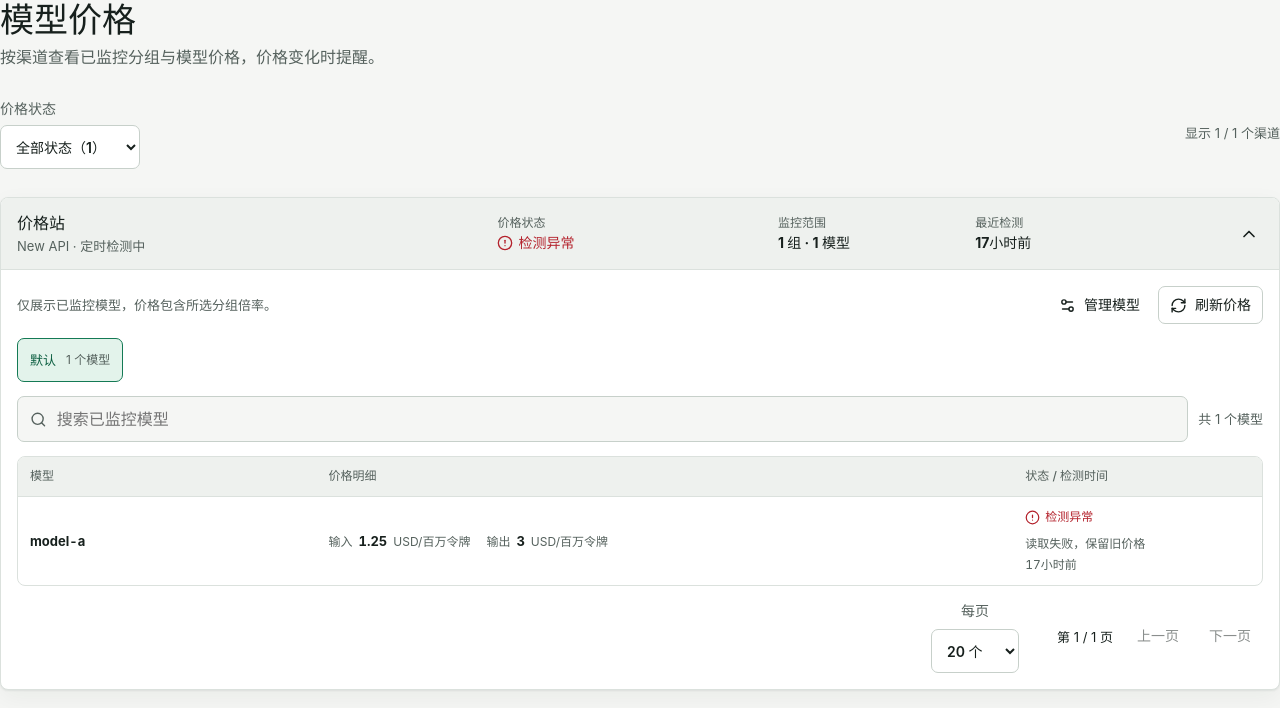
it: 独立模型价格监控 › 读取失败仍展示最近有效价格且可重试
Click the button "管理模型". click: (1100, 305)
box: [1047,286,1152,324]
(page scrolled)
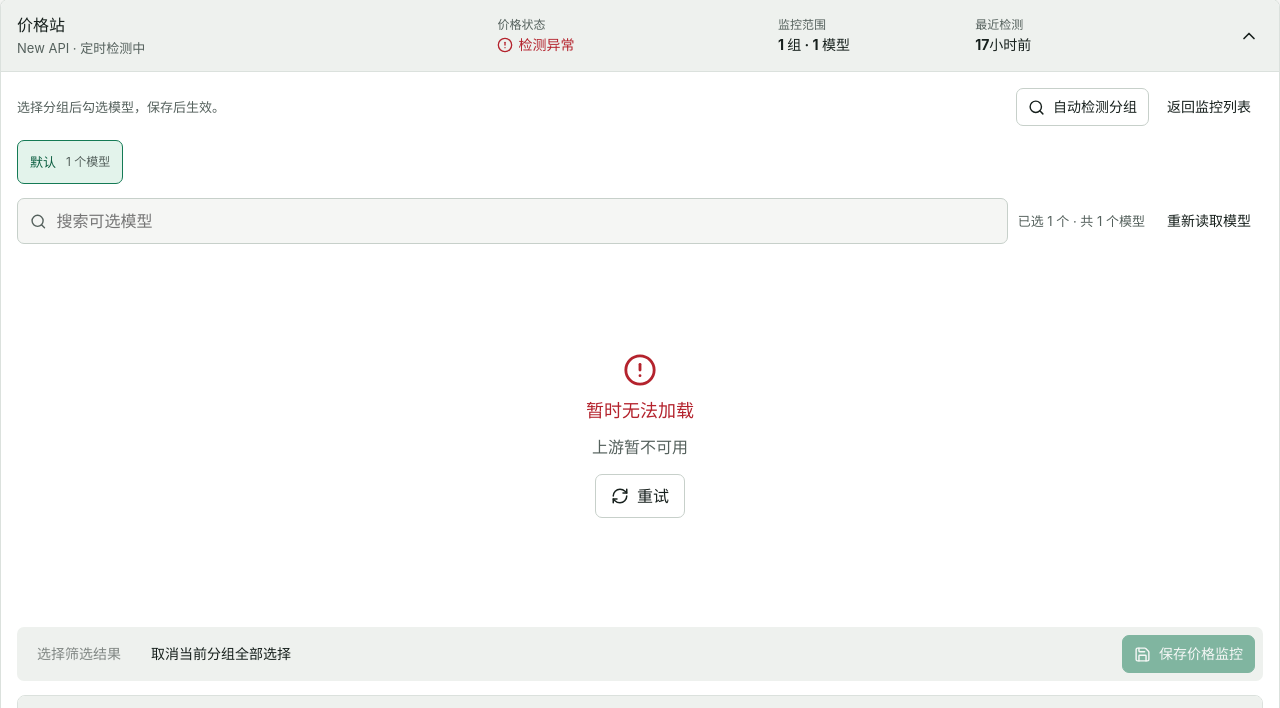
Expected: the text "检测异常" is shown, [497,36,574,53]
Expected: the text "上游暂不可用" is shown, [592,435,688,460]
Expected: the button "重试" is shown, [595,474,685,518]
